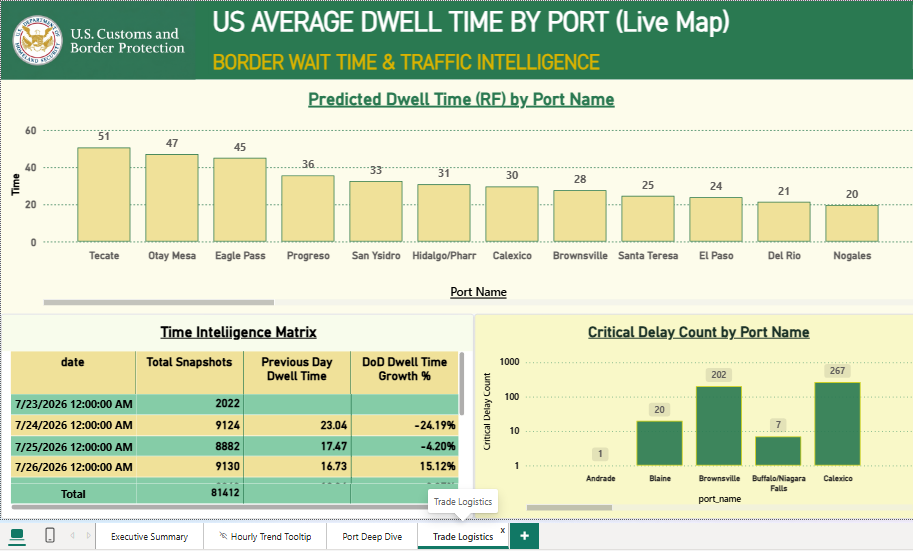

This screenshot's page, from the dashboard's own definition file:
{"tool":"powerbi","page":{"name":"Trade Logistics","canvas":[1280,720],"ordinal":3},"visuals":[{"type":"clusteredColumnChart","title":"Predicted Dwell Time (RF) by Port Name","fields":{"Category":["dim_port.port_name"],"Y":["fact_waittime_predictions.Predicted Dwell Time (RF)"]},"box":[0,109.5,1280.2,325.3],"z":0},{"type":"pivotTable","title":"Time Intelligence Matrix","fields":{"Rows":["dim_date.date"],"Values":["fact_waittimes_gold_new.Total Snapshots","fact_waittimes_gold_new.Previous Day Dwell Time","fact_waittimes_gold_new.DoD Dwell Time Growth %"]},"box":[0,434.7,657.8,285.6],"z":1000},{"type":"clusteredColumnChart","title":"Critical Delay Count by Port Name","fields":{"Category":["dim_port.port_name"],"Y":["fact_waittimes_gold_new.Critical Delay Count"]},"box":[657.8,434.7,622.4,285.6],"z":2000},{"type":"shape","box":[0,0,1280.2,109.5],"z":3000},{"type":"textbox","box":[288.8,0,991.4,102.2],"z":4000},{"type":"image","box":[0,0,270,109.5],"z":5000}]}

Visuals, with their boxes on the page's 1280x720 design canvas (x1, y1, x2, y2). These are canvas units, not pixel positions in the 913x551 screenshot, which may show the page scaled, cropped or inside an application window:
"Predicted Dwell Time (RF) by Port Name" clusteredColumnChart: 0,110,1280,435
"Time Intelligence Matrix" pivotTable: 0,435,658,720
"Critical Delay Count by Port Name" clusteredColumnChart: 658,435,1280,720
shape: 0,0,1280,110
textbox: 289,0,1280,102
image: 0,0,270,110
